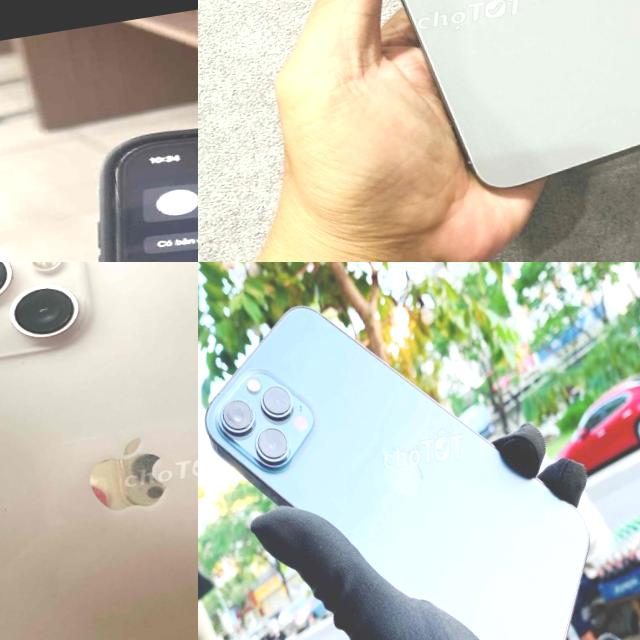gen_12_13: (198, 262, 618, 640), (0, 262, 198, 640)
gen_15: (328, 0, 640, 203)
gen_x_xs: (47, 81, 198, 262)
